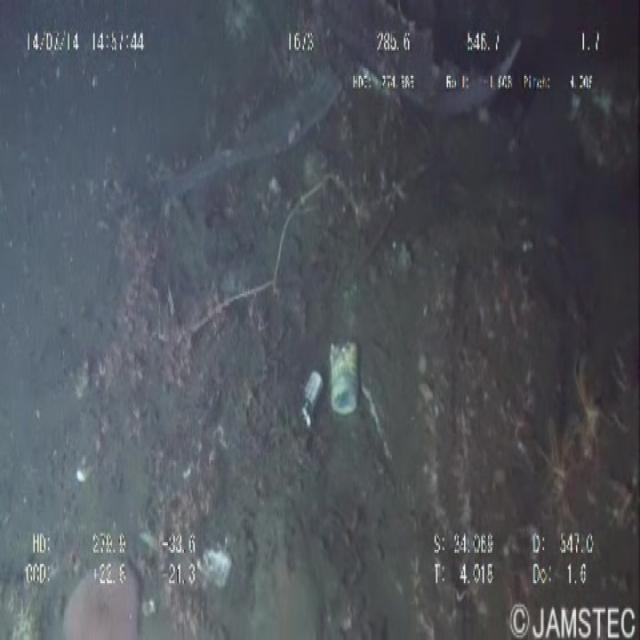Glass: (293, 356, 336, 466)
Litter: (289, 0, 546, 193)
Natual-Debris: (55, 174, 265, 521)
Plastic: (327, 328, 376, 436)
